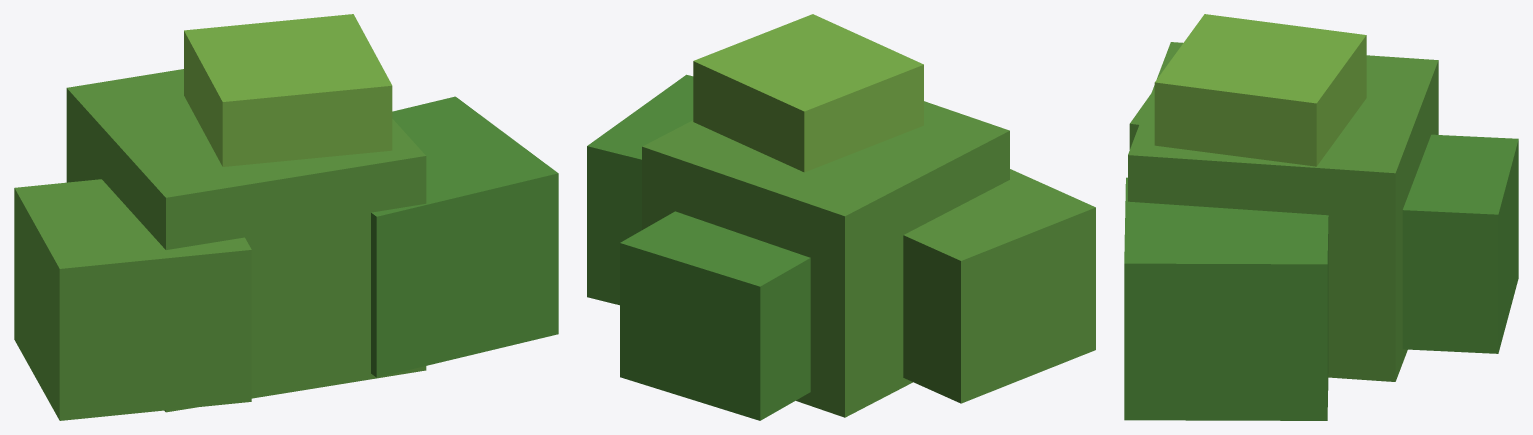
The model's file is B08_bush_round.obj.
3 views of the same model, side by side, from view 1: azimuth 30°, elevation 25°; view 2: azimuth 150°, elevation 25°; view 3: azimuth 270°, elevation 25° (orthographic). The views are drawn at different scales.
Parts seen in each view (by area): view 1: B08_bush_round; view 2: B08_bush_round; view 3: B08_bush_round.
Boxes of the visible parts, bbox=[...] form: B08_bush_round: bbox=[14, 14, 558, 420]; B08_bush_round: bbox=[587, 14, 1095, 420]; B08_bush_round: bbox=[1124, 14, 1518, 420].
Size of the model in its own units: 2.33 by 1.33 by 1.75.
